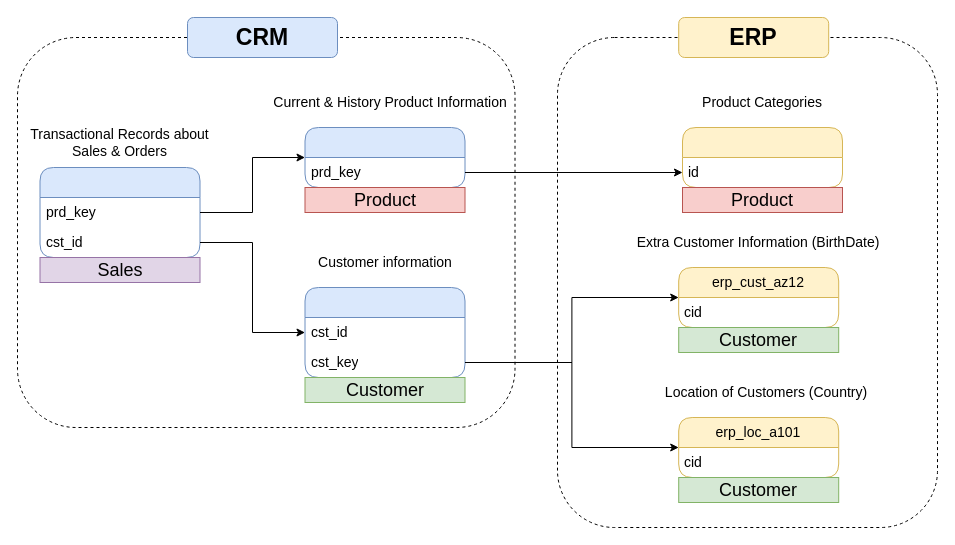
This 955x545 diagram has some shape labels left out. Here are the shapes that lost their labels. From the top down, the box of each, then its label:
(304, 126, 465, 188): crm_prd_info
(682, 126, 842, 188): erp_px_cat_g1v2
(39, 166, 200, 258): crm_sales_details
(304, 286, 465, 378): crm_cust_info
